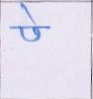e_matra: (20, 3, 38, 25)
